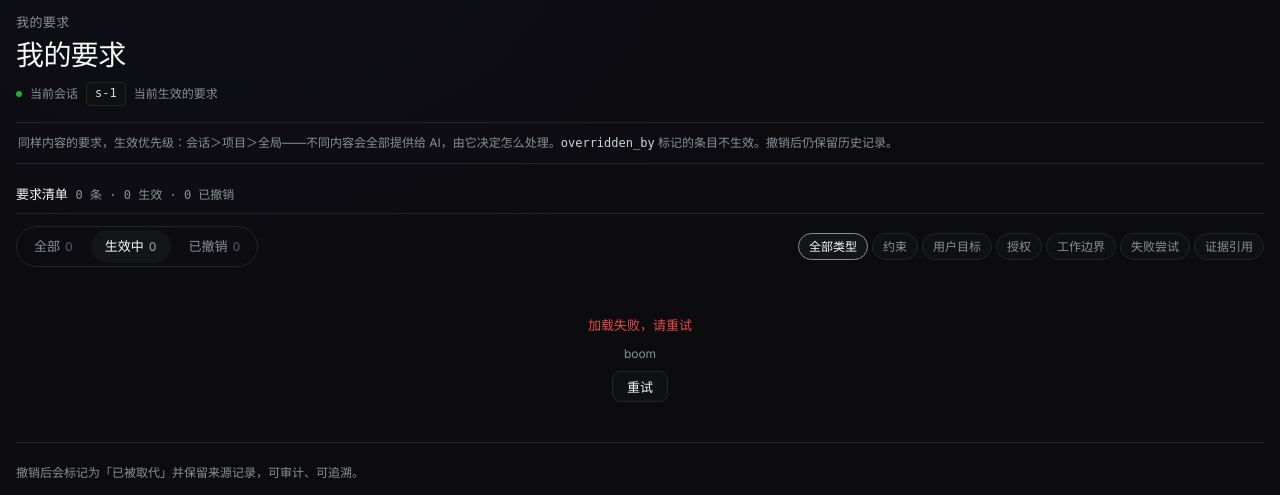
Test: ConstraintsTab（状态外壳） › 重试：错误文案在重试开始时即清除（不残留上一次错误）
The width and height of the screenshot is (1280, 495).
重试在途（挂起）→ 上一次的错误文案不该还挂着，应回到加载态。
What coordinates should you click on to do the following:
click the button "重试"
I would click on:
 (640, 386)
Its box is 612,371 -> 668,402.
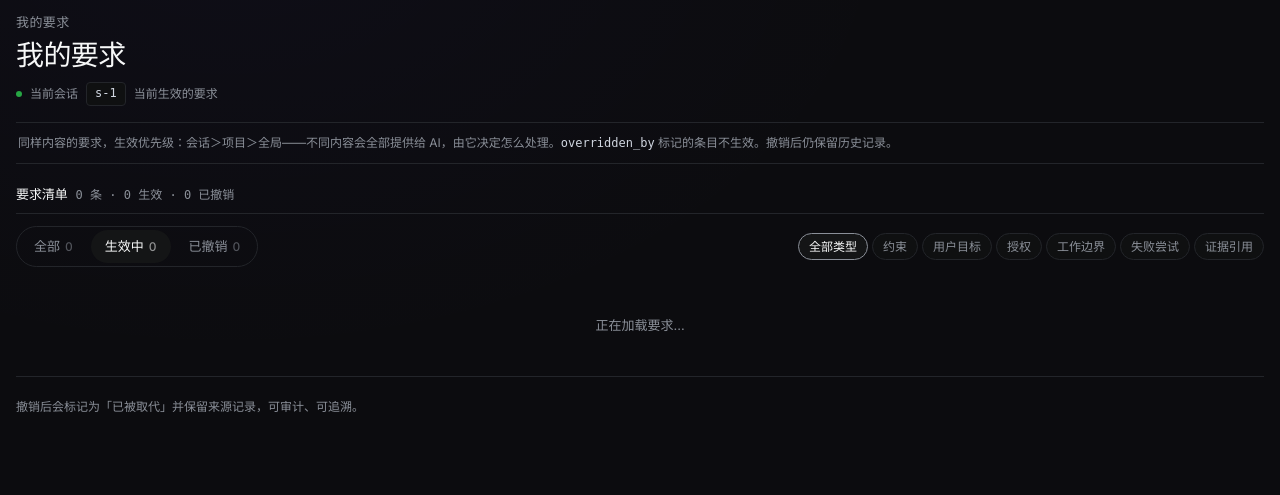
Result: the text "加载失败，请重试" is gone
Result: the text "正在加载要求…" is shown at 16,275 -> 1264,377
